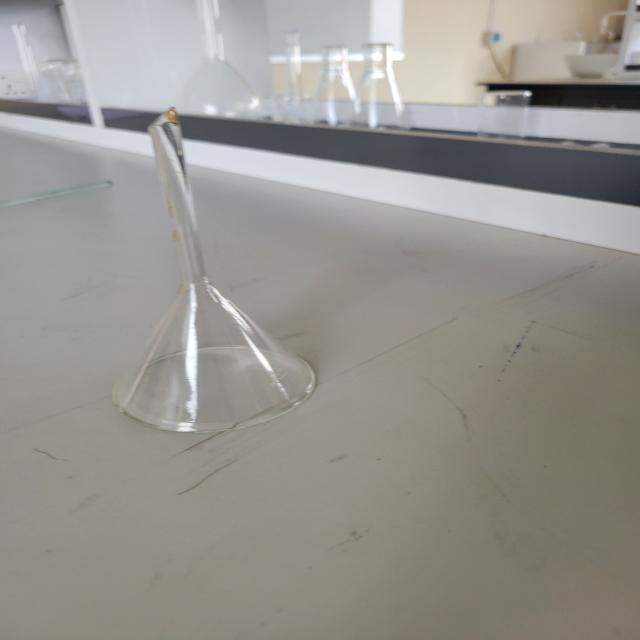Funnel: (83, 104, 340, 466)
